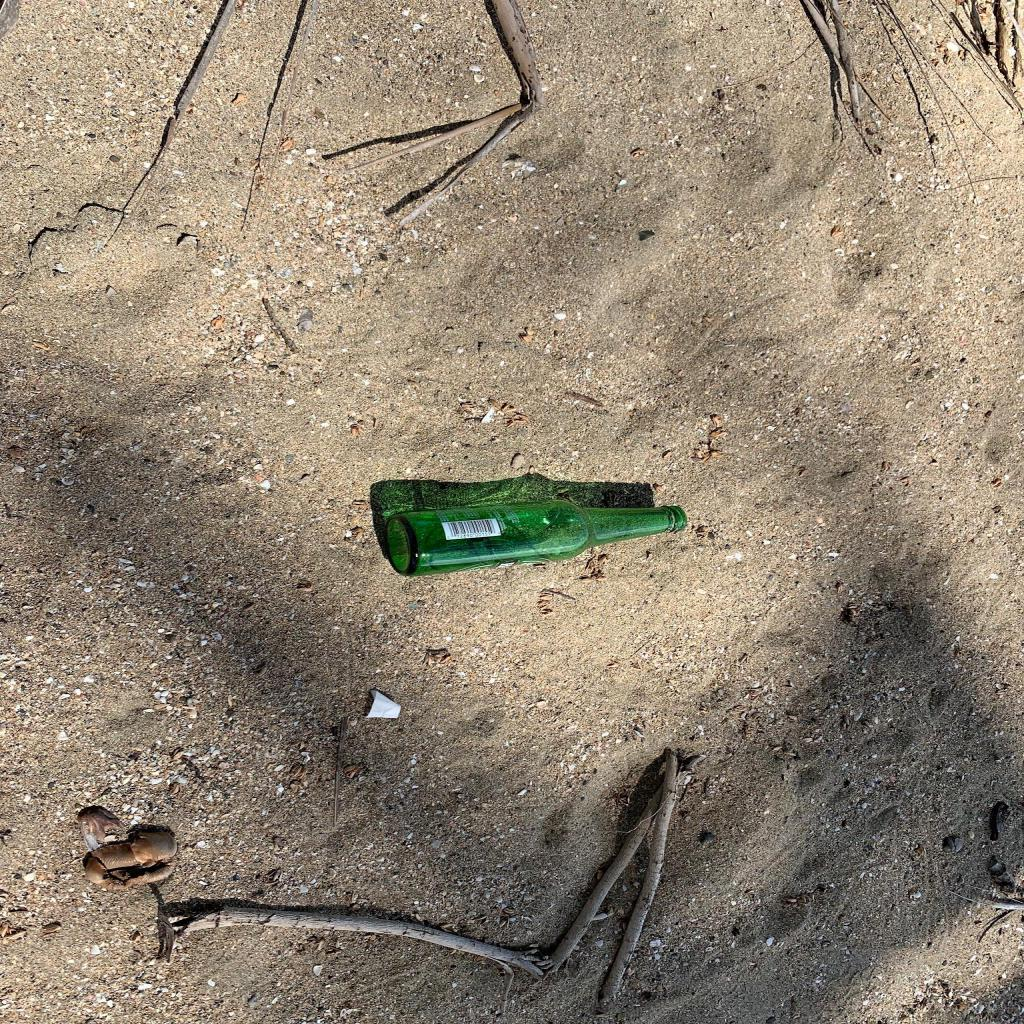Glass bottle: (384, 499, 687, 577)
Unlabeled litter: (366, 690, 401, 718)
